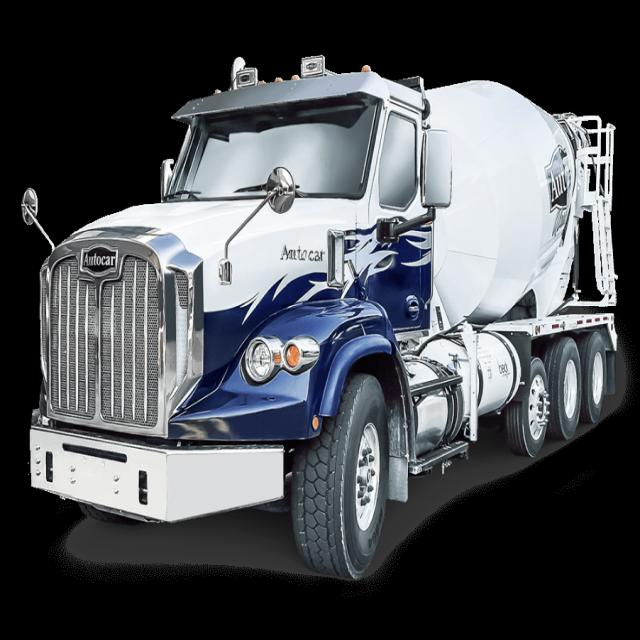truck: (11, 24, 638, 630)
